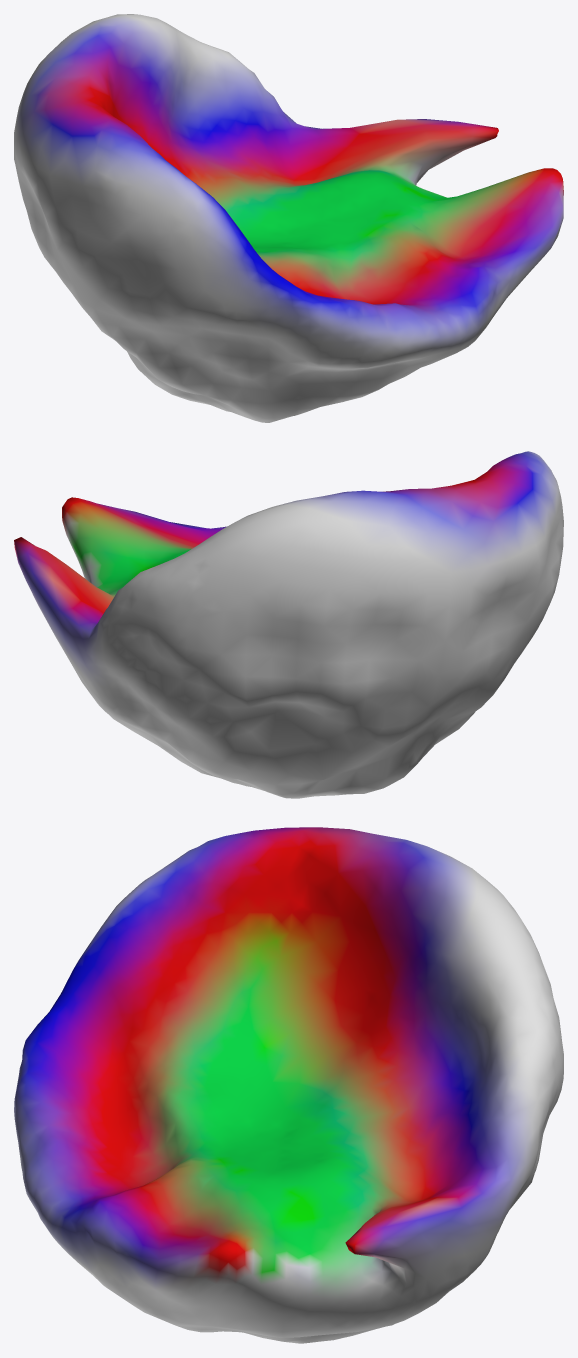
File: Floating Island DoublePathJump.fbx
3 views of the same model, one above another, from view 1: azimuth 30°, elevation 25°; view 2: azimuth 150°, elevation 25°; view 3: azimuth 270°, elevation 25° (orthographic). The views are drawn at different scales.
Visible parts, largest first — view 1: Sphere; view 2: Sphere; view 3: Sphere.
Boxes of the visible parts, x1=… form: Sphere: x1=14, y1=14, x2=563, y2=422; Sphere: x1=14, y1=451, x2=563, y2=798; Sphere: x1=14, y1=827, x2=563, y2=1343.
Bounding box in the file's own units: 225 × 151 × 191.
